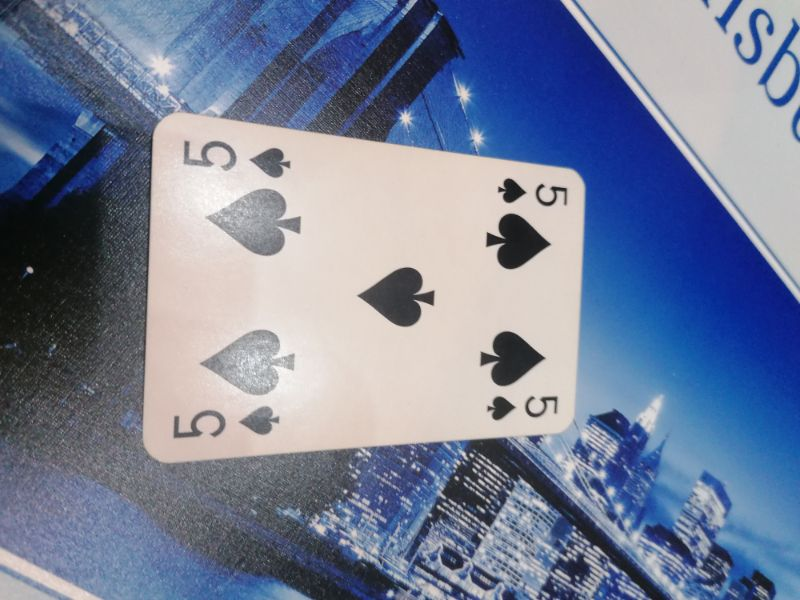5s: (179, 132, 293, 180), (169, 402, 282, 439), (491, 174, 572, 211), (480, 391, 562, 424)
